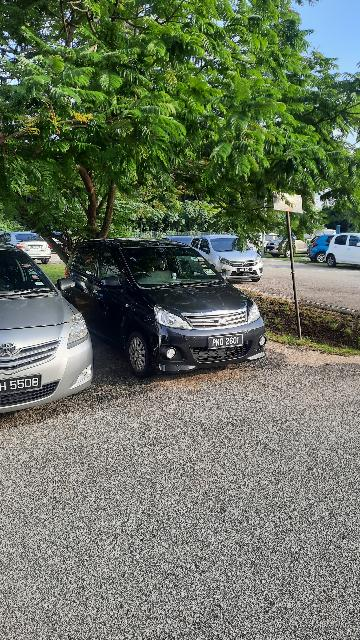License_Plate: (1, 372, 47, 396), (206, 333, 244, 351)
car: (62, 233, 274, 379), (1, 236, 95, 421)
